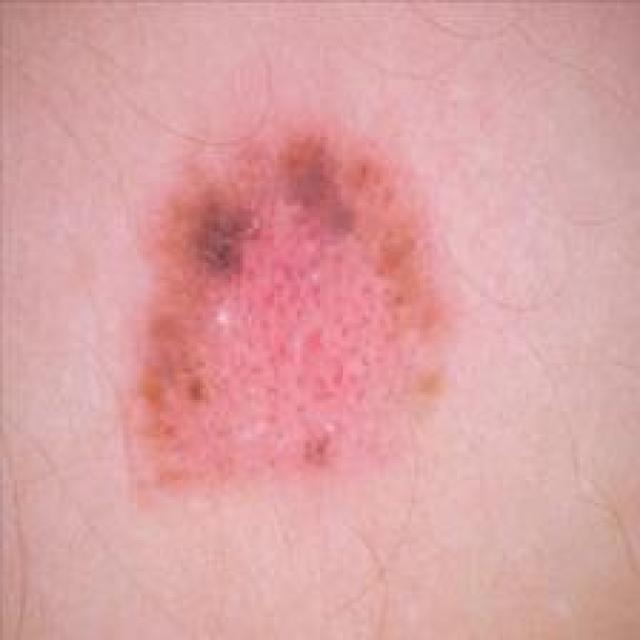Cancer: (131, 120, 451, 527)
